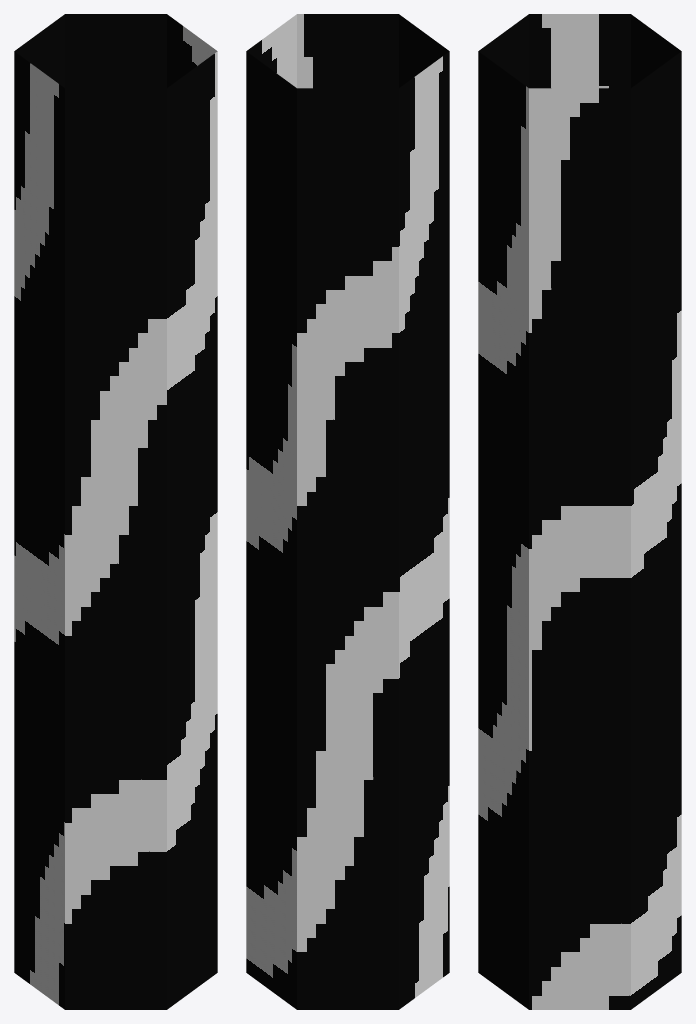
Rendered from tower_tube_tiled.glb.
3 renders of one model, left to right at view 1: azimuth 30°, elevation 25°; view 2: azimuth 150°, elevation 25°; view 3: azimuth 270°, elevation 25°, orthographic.
Parts seen in each view (by area): view 1: Cylinder; view 2: Cylinder; view 3: Cylinder.
Boxes of the visible parts, bbox=[...] form: Cylinder: bbox=[14, 14, 217, 1009]; Cylinder: bbox=[246, 14, 449, 1009]; Cylinder: bbox=[478, 14, 681, 1009].
Size of the model in its own units: 17.32 by 100 by 20.
1 material, 1 textured.
